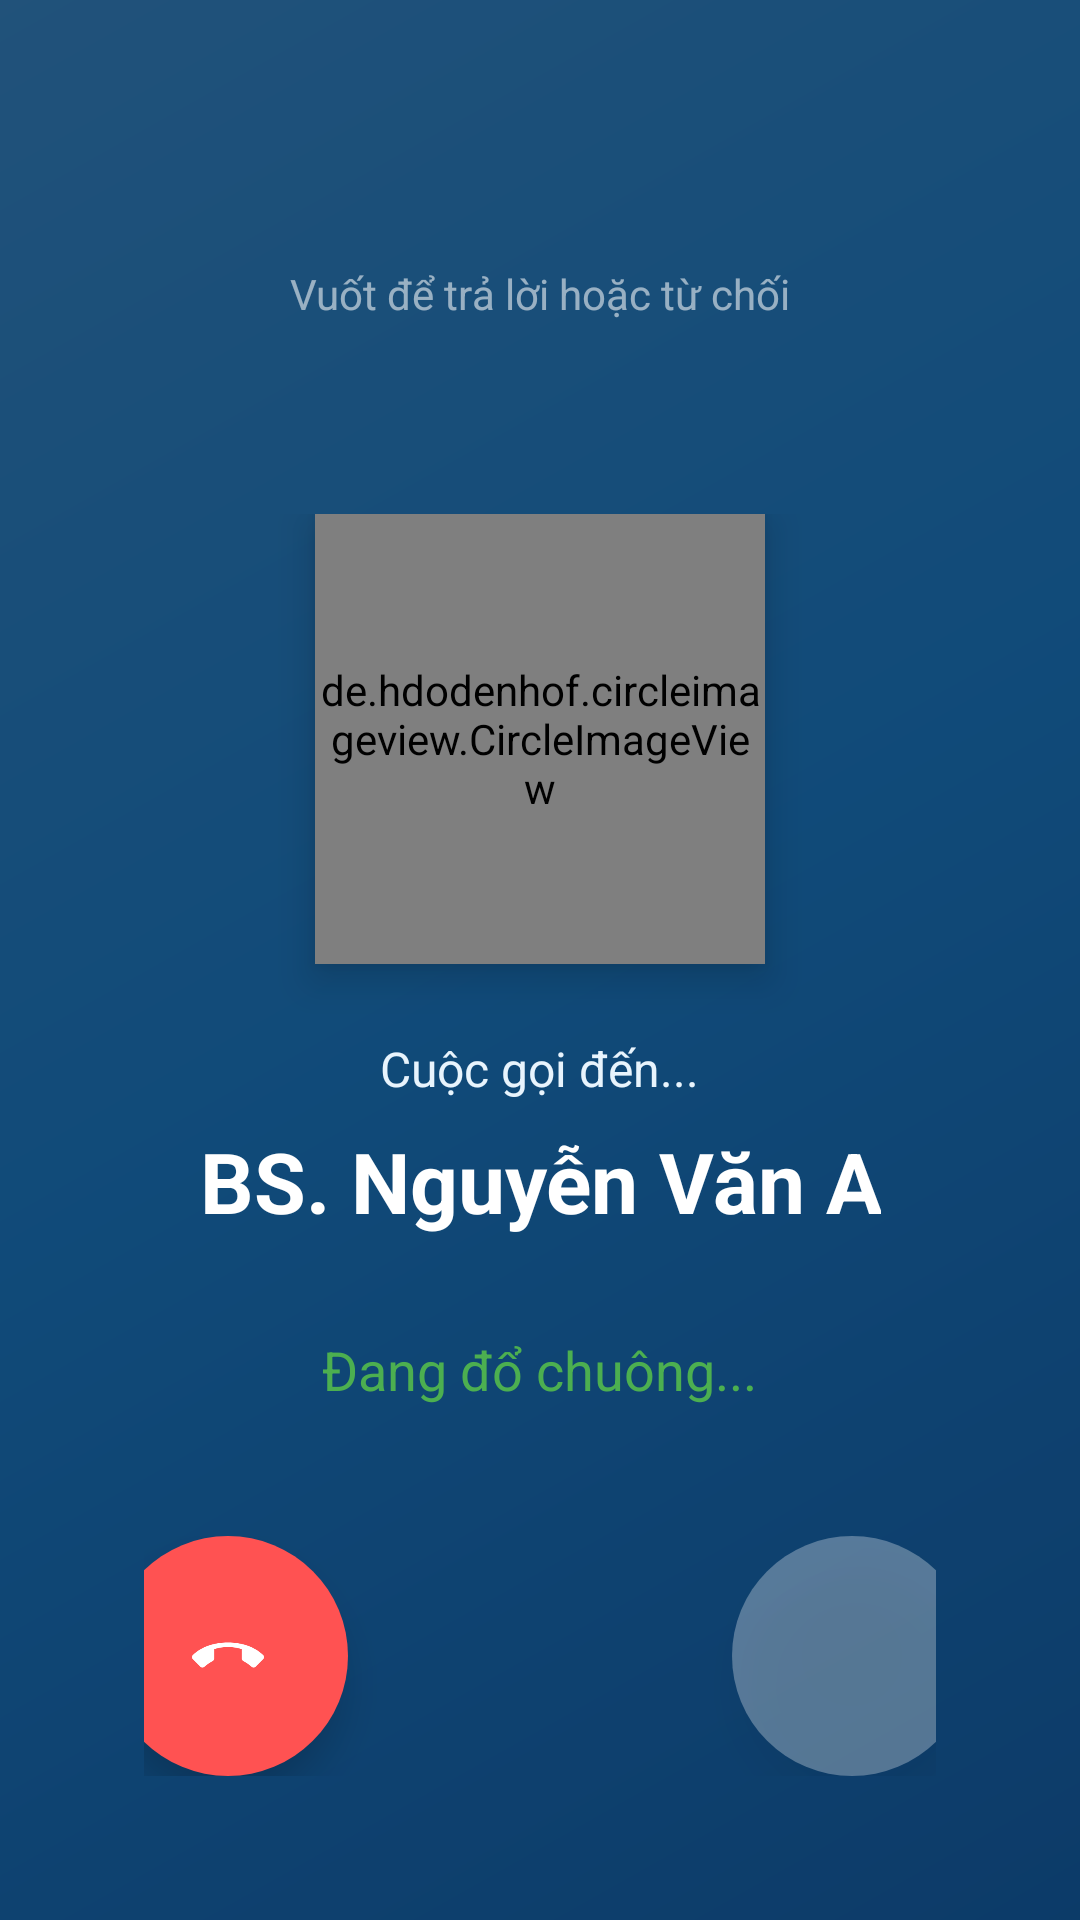

Point at icon controls on the screen. Image size 1080 x 1920, points as (x=x, y=y).
Từ chối cuộc gọi: (x=246, y=1656)
